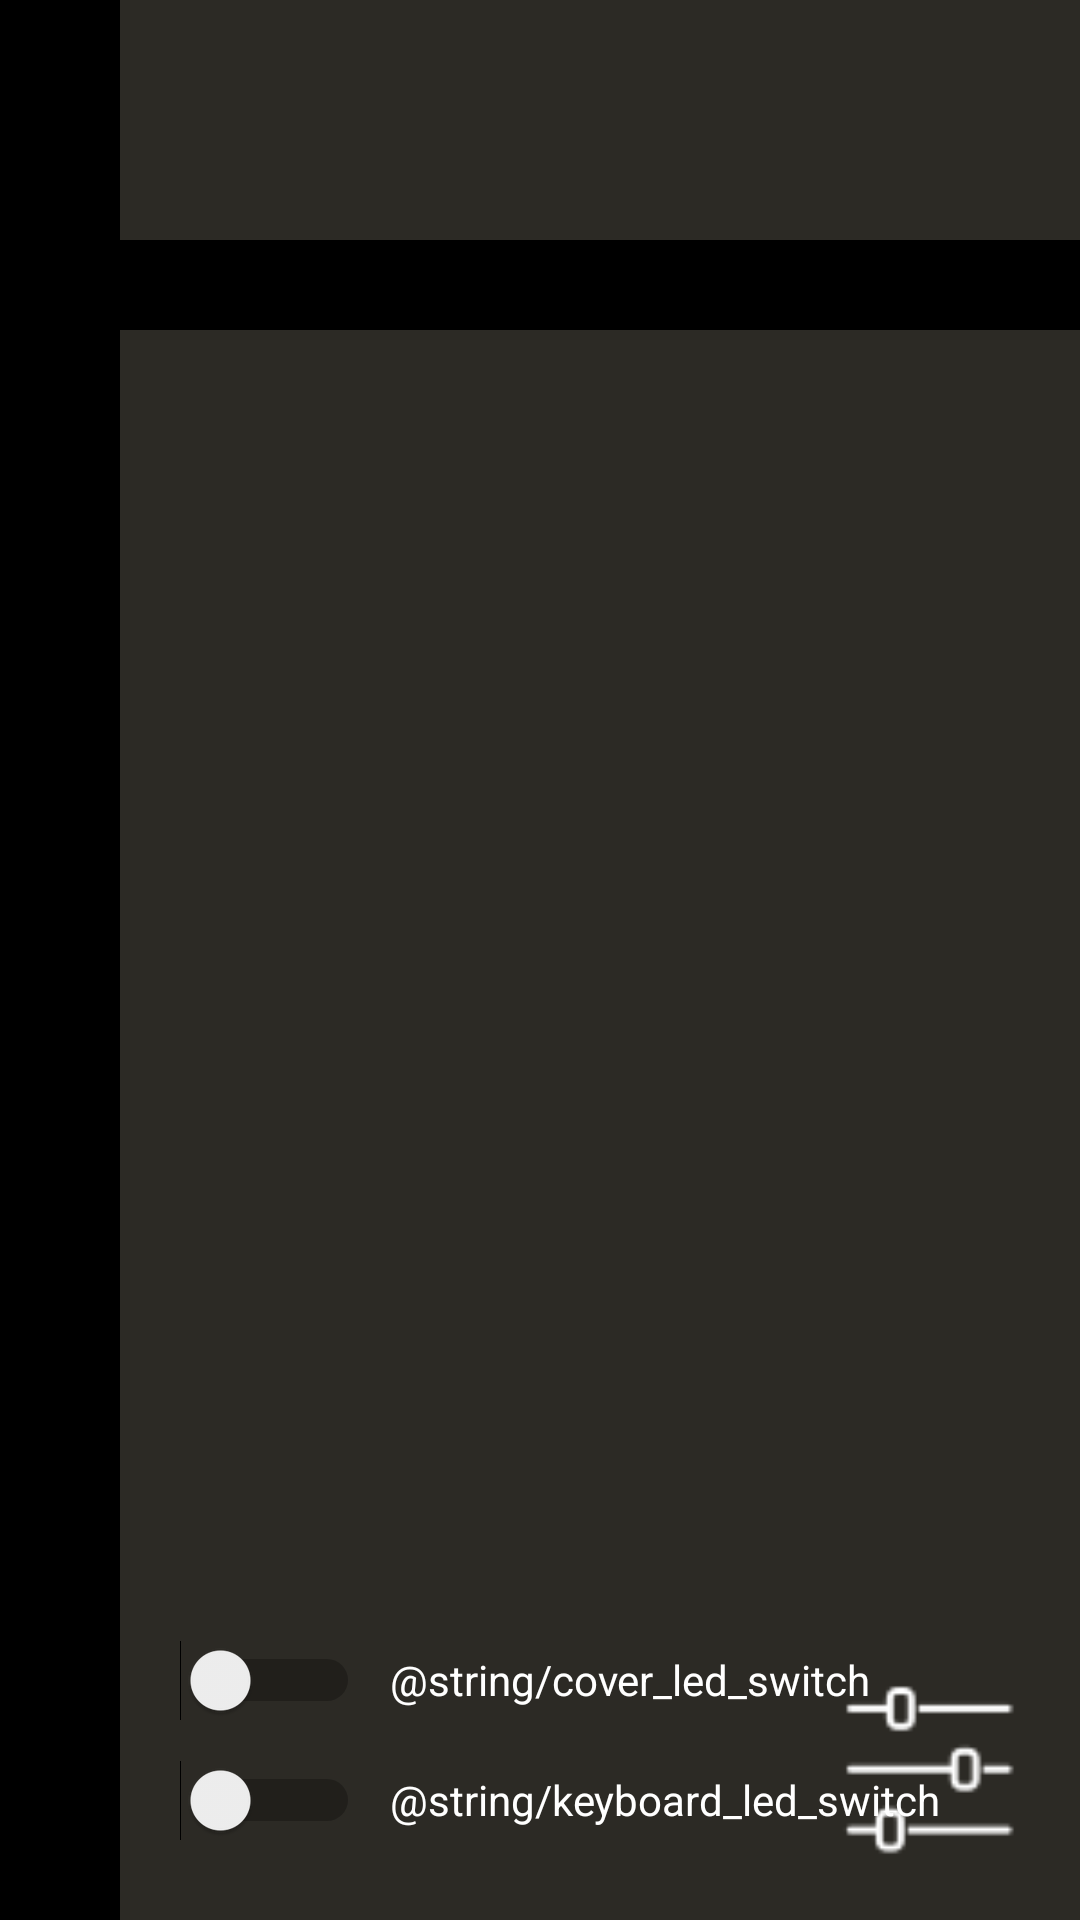

Where icons sit on this 1080px x 1920px app screen, as box=[x1, y1, x2, y2]:
tune: box=[840, 1686, 1014, 1854]
